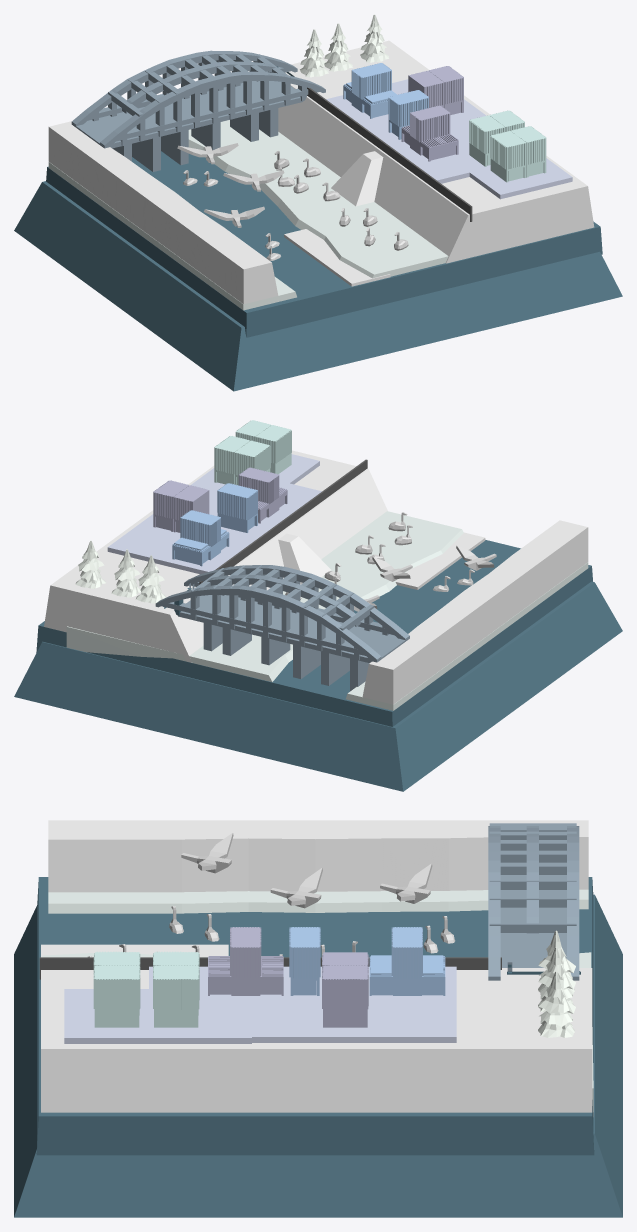
The model's file is winter.glb.
The picture shows the model from 3 angles, top to bottom: view 1: azimuth 30°, elevation 25°; view 2: azimuth 150°, elevation 25°; view 3: azimuth 270°, elevation 25°; orthographic projection. The views are drawn at different scales.
Visible parts, largest first — view 1: かわまち3D_Town_盛岡_for_テクスチャ.457, かわまち3D_Town_盛岡_for_テクスチャ.458, かわまち3D_Town_盛岡_for_テクスチャ.002, かわまち3D_Town_盛岡_for_テクスチャ.014, かわまち3D_Town_盛岡_for_テクスチャ.004, かわまち3D_Town_盛岡_for_テクスチャ.006, かわまち3D_Town_盛岡_for_テクスチャ.022, かわまち3D_Town_盛岡_for_テクスチャ.271, かわまち3D_Town_盛岡_for_テクスチャ.020, かわまち3D_Town_盛岡_for_テクスチャ.059, かわまち3D_Town_盛岡_for_テクスチャ.322, かわまち3D_Town_盛岡_for_テクスチャ.045 (+20 smaller); view 2: かわまち3D_Town_盛岡_for_テクスチャ.457, かわまち3D_Town_盛岡_for_テクスチャ.002, かわまち3D_Town_盛岡_for_テクスチャ.458, かわまち3D_Town_盛岡_for_テクスチャ.014, かわまち3D_Town_盛岡_for_テクスチャ.004, かわまち3D_Town_盛岡_for_テクスチャ.006, かわまち3D_Town_盛岡_for_テクスチャ.022, かわまち3D_Town_盛岡_for_テクスチャ.045, かわまち3D_Town_盛岡_for_テクスチャ.322, かわまち3D_Town_盛岡_for_テクスチャ.367, かわまち3D_Town_盛岡_for_テクスチャ.007, かわまち3D_Town_盛岡_for_テクスチャ.020 (+17 smaller); view 3: かわまち3D_Town_盛岡_for_テクスチャ.457, かわまち3D_Town_盛岡_for_テクスチャ.002, かわまち3D_Town_盛岡_for_テクスチャ.458, かわまち3D_Town_盛岡_for_テクスチャ.014, かわまち3D_Town_盛岡_for_テクスチャ.006, かわまち3D_Town_盛岡_for_テクスチャ.003, かわまち3D_Town_盛岡_for_テクスチャ.005, かわまち3D_Town_盛岡_for_テクスチャ.322, かわまち3D_Town_盛岡_for_テクスチャ.059, かわまち3D_Town_盛岡_for_テクスチャ.271, かわまち3D_Town_盛岡_for_テクスチャ.007, かわまち3D_Town_盛岡_for_テクスチャ.367 (+21 smaller).
Part boxes in pixels (x1,y1,x2,y2): かわまち3D_Town_盛岡_for_テクスチャ.457: (14,181,622,391); かわまち3D_Town_盛岡_for_テクスチャ.458: (46,151,602,337); かわまち3D_Town_盛岡_for_テクスチャ.002: (278,40,594,263); かわまち3D_Town_盛岡_for_テクスチャ.014: (48,121,278,306); かわまち3D_Town_盛岡_for_テクスチャ.004: (188,120,448,278); かわまち3D_Town_盛岡_for_テクスチャ.006: (326,79,490,183); かわまち3D_Town_盛岡_for_テクスチャ.022: (72,81,303,148); かわまち3D_Town_盛岡_for_テクスチャ.271: (490,126,546,182); かわまち3D_Town_盛岡_for_テクスチャ.020: (100,71,325,148); かわまち3D_Town_盛岡_for_テクスチャ.059: (401,105,458,161); かわまち3D_Town_盛岡_for_テクスチャ.322: (343,63,396,118); かわまち3D_Town_盛岡_for_テクスチャ.045: (71,50,297,125); かわまち3D_Town_盛岡_for_テクスチャ.457: (14,581,622,791); かわまち3D_Town_盛岡_for_テクスチャ.002: (44,450,387,662); かわまち3D_Town_盛岡_for_テクスチャ.458: (36,540,592,726); かわまち3D_Town_盛岡_for_テクスチャ.014: (362,520,588,704); かわまち3D_Town_盛岡_for_テクスチャ.004: (66,511,463,682); かわまち3D_Town_盛岡_for_テクスチャ.006: (107,482,321,574); かわまち3D_Town_盛岡_for_テクスチャ.022: (177,595,408,663); かわまち3D_Town_盛岡_for_テクスチャ.045: (155,585,381,662); かわまち3D_Town_盛岡_for_テクスチャ.322: (172,510,229,566); かわまち3D_Town_盛岡_for_テクスチャ.367: (153,480,209,532); かわまち3D_Town_盛岡_for_テクスチャ.007: (214,436,270,485); かわまち3D_Town_盛岡_for_テクスチャ.020: (184,565,409,640); かわまち3D_Town_盛岡_for_テクスチャ.457: (14,894,622,1217); かわまち3D_Town_盛岡_for_テクスチャ.002: (41,968,592,1112); かわまち3D_Town_盛岡_for_テクスチャ.458: (36,877,594,1155); かわまち3D_Town_盛岡_for_テクスチャ.014: (48,820,588,892); かわまち3D_Town_盛岡_for_テクスチャ.006: (149,966,456,1042); かわまち3D_Town_盛岡_for_テクスチャ.003: (48,889,588,913); かわまち3D_Town_盛岡_for_テクスチャ.005: (64,989,251,1043); かわまち3D_Town_盛岡_for_テクスチャ.322: (369,927,445,995); かわまち3D_Town_盛岡_for_テクスチャ.059: (208,927,283,995); かわまち3D_Town_盛岡_for_テクスチャ.271: (93,951,140,1027); かわまち3D_Town_盛岡_for_テクスチャ.007: (153,951,199,1027); かわまち3D_Town_盛岡_for_テクスチャ.367: (322,952,368,1027).
Size of the model in its own units: 6.64 by 2.47 by 6.49.
